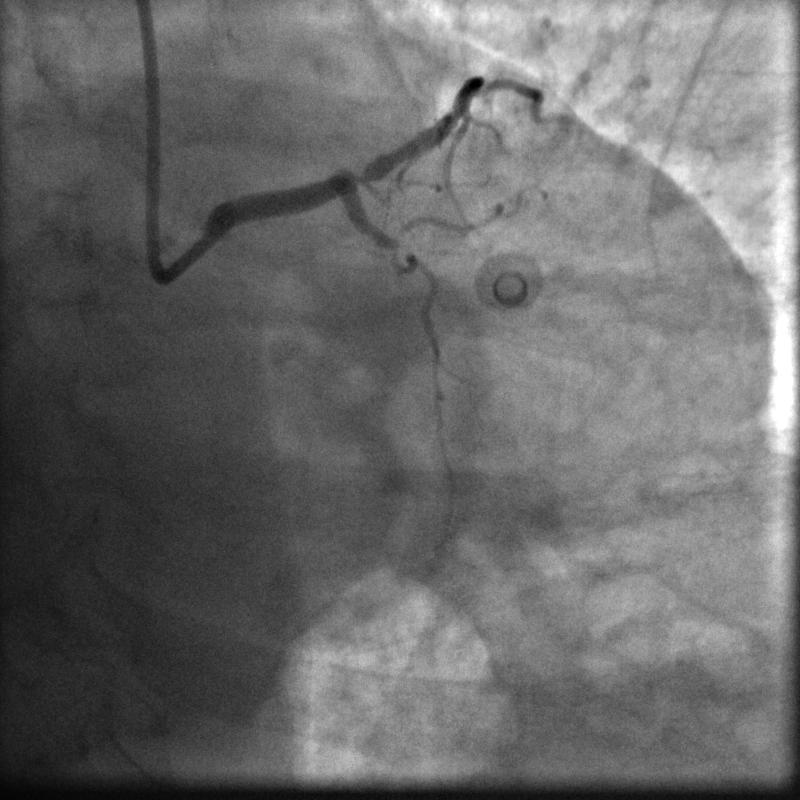Stenosis: (338, 157, 374, 188)
